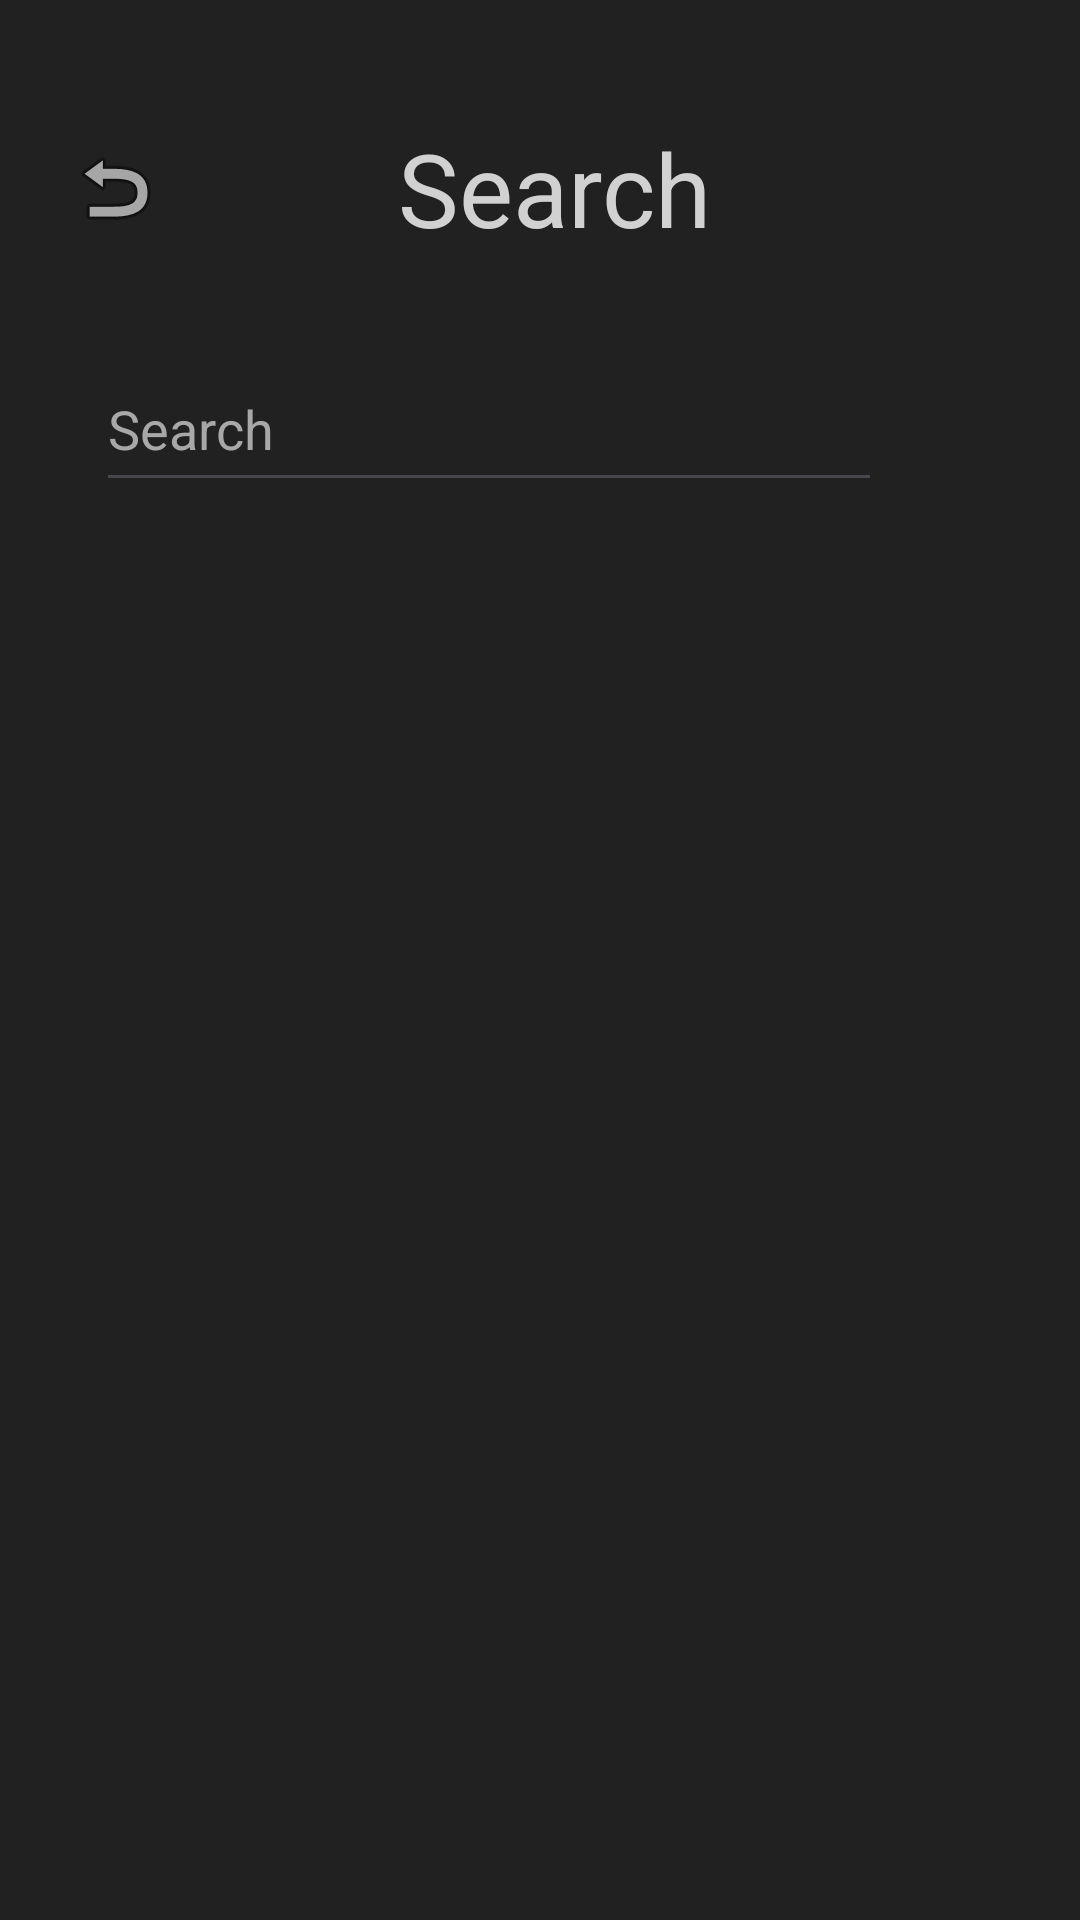

Named icons in this screenshot (1080×1920) and their bounding boxes, (x1, y1, x2, y2):
revert: (85, 160, 148, 217)
